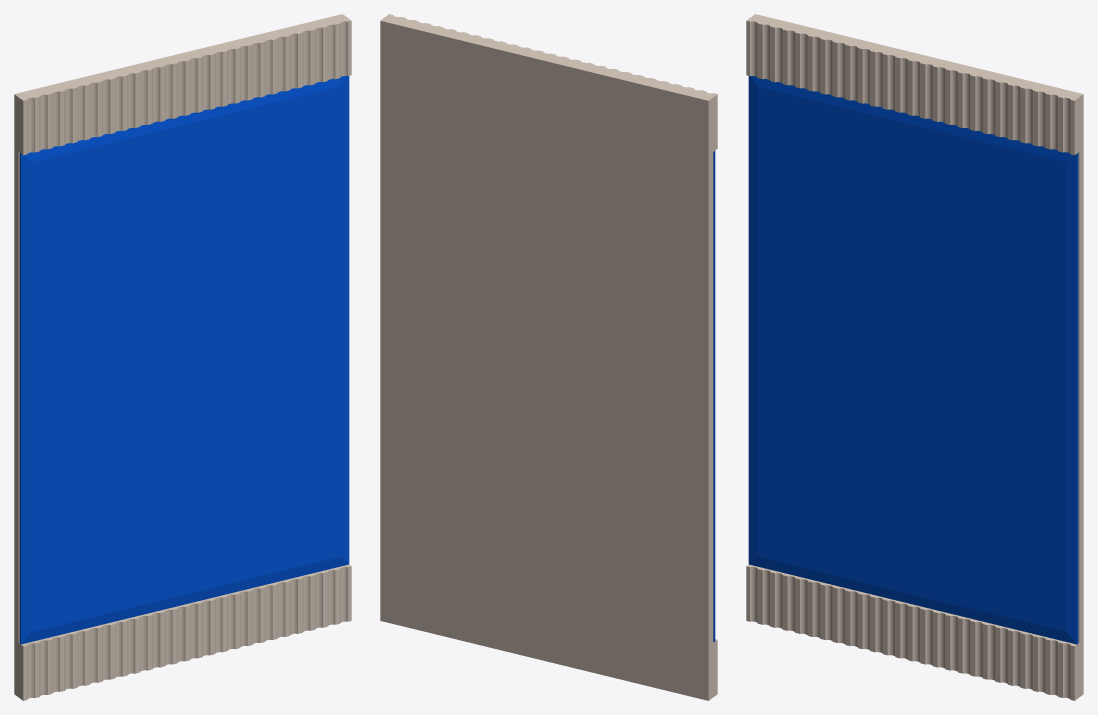
File: Noodles-M.glb
3 views of the same model, side by side, from view 1: azimuth 30°, elevation 25°; view 2: azimuth 150°, elevation 25°; view 3: azimuth 330°, elevation 25° (orthographic).
Visible parts, largest first — view 1: Noodles; view 2: Noodles; view 3: Noodles.
Boxes of the visible parts, left/top/right/bottom form: Noodles: left=14, top=14, right=351, bottom=700; Noodles: left=380, top=14, right=717, bottom=700; Noodles: left=746, top=14, right=1083, bottom=700.
Size of the model in its own units: 0.63 by 1.1 by 0.0305.
